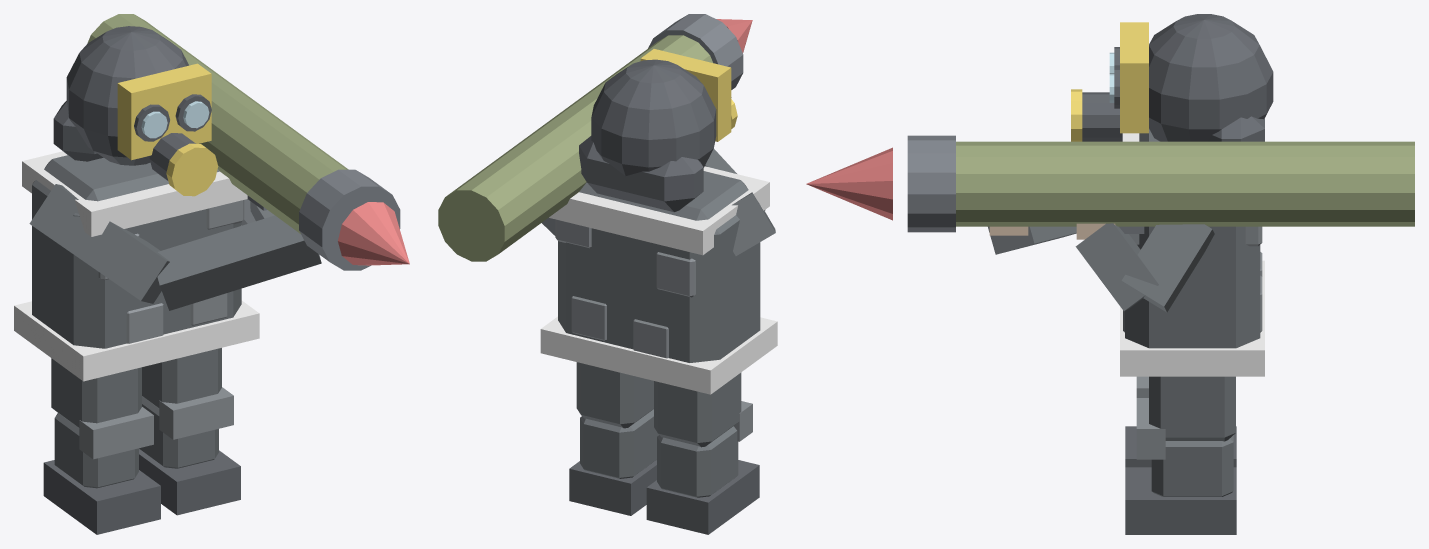
Rendered from rocket@toxico.glb.
3 views of the same model, side by side, from view 1: azimuth 30°, elevation 25°; view 2: azimuth 150°, elevation 25°; view 3: azimuth 270°, elevation 25° (orthographic). The views are drawn at different scales.
Parts seen in each view (by area): view 1: main, shinl, shinr, legl, legr; view 2: main, shinl, shinr, legl, legr; view 3: main, shinr, legr, shinl.
Part boxes in pixels (bbox=[...]): main: bbox=[14, 14, 409, 381]; shinl: bbox=[43, 407, 160, 534]; shinr: bbox=[139, 387, 240, 515]; legl: bbox=[51, 358, 141, 427]; legr: bbox=[142, 348, 221, 408]; main: bbox=[438, 14, 777, 394]; shinl: bbox=[646, 401, 759, 534]; shinr: bbox=[569, 409, 658, 515]; legl: bbox=[654, 372, 741, 447]; legr: bbox=[576, 362, 653, 428]; main: bbox=[806, 14, 1414, 376]; shinr: bbox=[1125, 398, 1236, 534]; legr: bbox=[1149, 376, 1235, 441]; shinl: bbox=[1125, 376, 1236, 467].
Size of the model in its own units: 0.323 by 0.5462 by 0.63.
